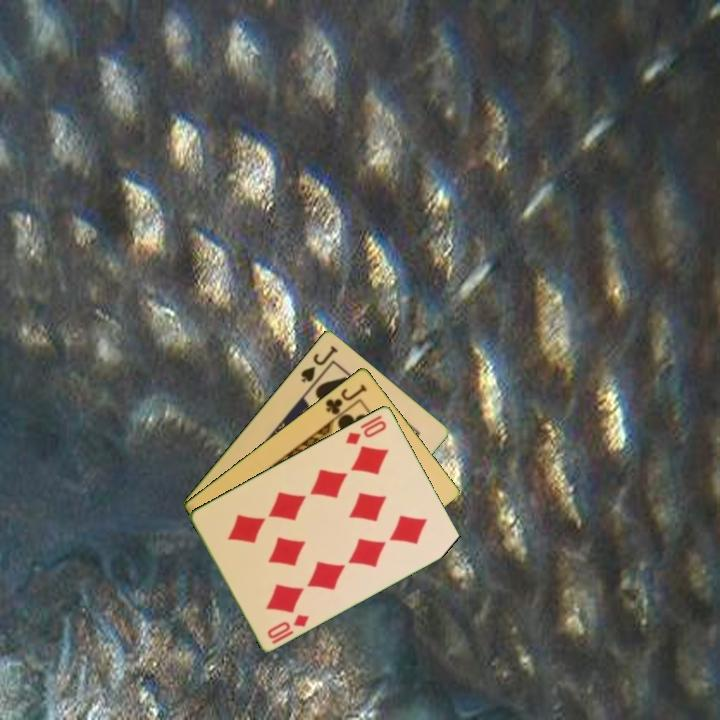10d: (342, 411, 390, 447), (264, 610, 312, 641)
Jc: (322, 380, 370, 418)
Js: (297, 342, 341, 385)
